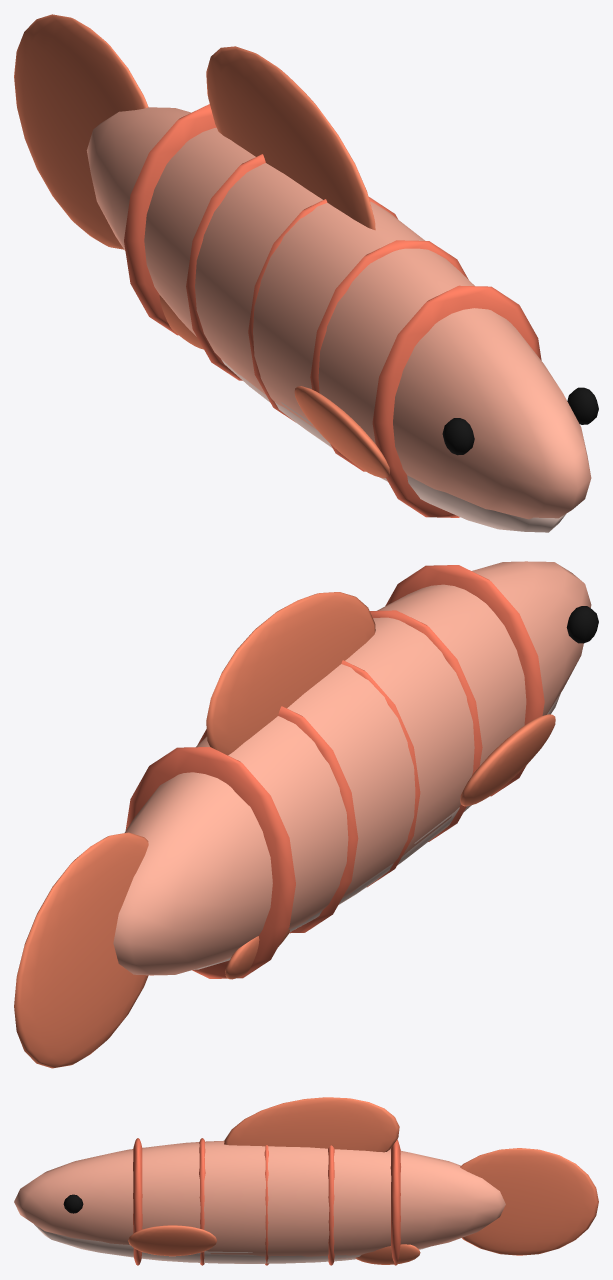
Rendered from shrimp.glb.
3 views of the same model, one above another, from view 1: azimuth 30°, elevation 25°; view 2: azimuth 150°, elevation 25°; view 3: azimuth 270°, elevation 25° (orthographic). The views are drawn at different scales.
Visible parts, largest first — view 1: shrimp; view 2: shrimp; view 3: shrimp.
Boxes of the visible parts, <box> form: shrimp: <box>14,14,598,532</box>; shrimp: <box>14,561,598,1068</box>; shrimp: <box>14,1097,598,1265</box>.
Bounding box in the file's own units: 0.0882 × 0.1284 × 0.413.
